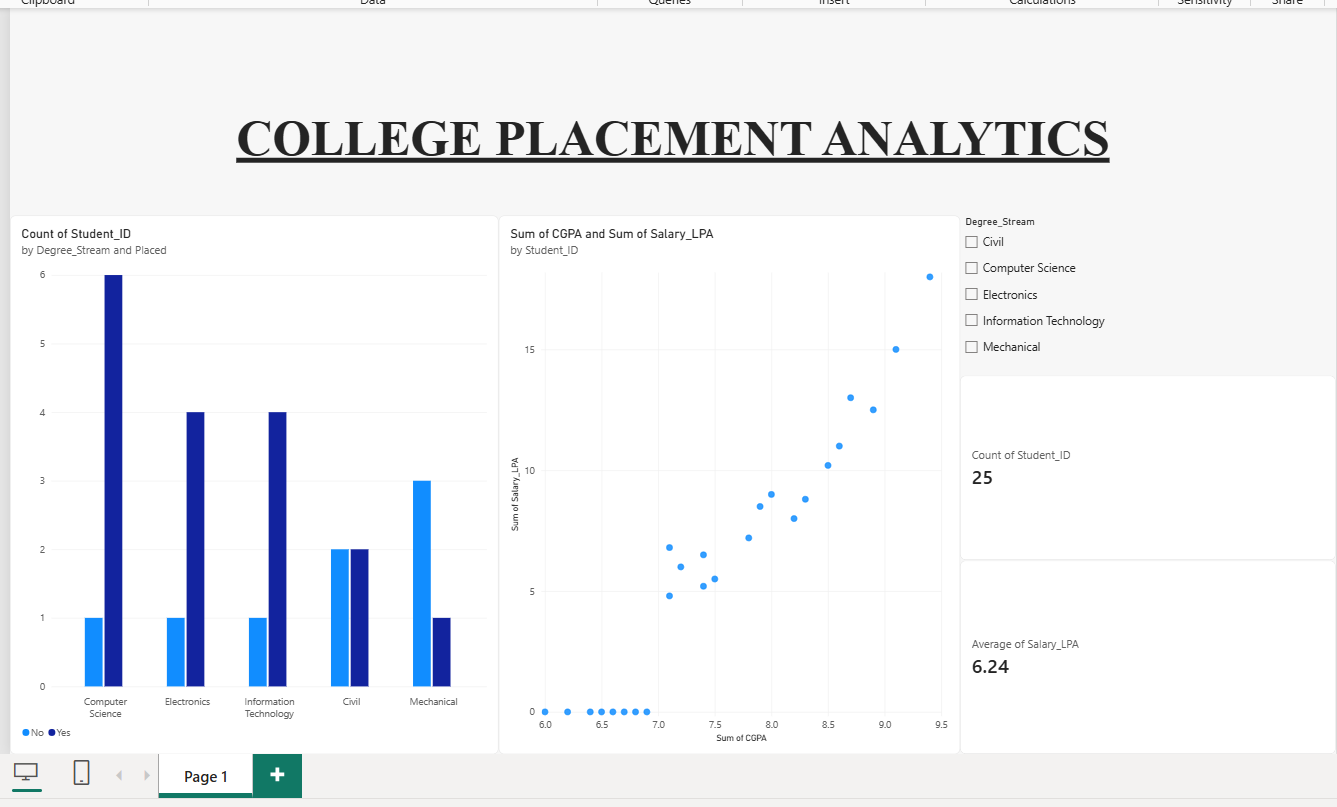

Layout of this report page (visuals, bound fields, positions):
{"tool":"powerbi","page":{"name":"Page 1","canvas":[1920,1080],"ordinal":0},"visuals":[{"type":"clusteredColumnChart","fields":{"Category":["Student_ID (Sheet1).Degree_Stream"],"Series":["Student_ID (Sheet1).Placed"],"Y":["CountNonNull(Student_ID (Sheet1).Student_ID)"]},"box":[0,300.4,707.6,780],"z":0},{"type":"scatterChart","fields":{"Category":["Student_ID (Sheet1).Student_ID"],"X":["Sum(Student_ID (Sheet1).CGPA)"],"Y":["Sum(Student_ID (Sheet1).Salary_LPA)"]},"box":[707.6,300.4,667.8,780],"z":1000},{"type":"textbox","box":[0,0,572,432],"z":2000},{"type":"textbox","box":[0,432.5,571.9,441.6],"z":3000},{"type":"textbox","box":[327.3,0,1558.2,432.2],"z":4000},{"type":"cardVisual","fields":{"Data":["CountNonNull(Student_ID (Sheet1).Student_ID)"]},"box":[1375.3,532,544.7,267.8],"z":5000},{"type":"cardVisual","fields":{"Data":["Avg(Student_ID (Sheet1).Salary_LPA)"]},"box":[1375.3,799.9,544.7,280.5],"z":6000},{"type":"slicer","fields":{"Values":["Student_ID (Sheet1).Degree_Stream"]},"box":[1375.3,300.4,544.7,231.6],"z":7000}]}

Visuals, with their boxes on the page's 1920x1080 design canvas (x1, y1, x2, y2). These are canvas units, not pixel positions in the 1337x807 screenshot, which may show the page scaled, cropped or inside an application window:
clusteredColumnChart - Student_ID (Sheet1).Degree_Stream x Student_ID (Sheet1).Placed: {"x1": 0, "y1": 300, "x2": 708, "y2": 1080}
scatterChart - Student_ID (Sheet1).Student_ID x Sum(Student_ID (Sheet1).CGPA): {"x1": 708, "y1": 300, "x2": 1375, "y2": 1080}
textbox: {"x1": 0, "y1": 0, "x2": 572, "y2": 432}
textbox: {"x1": 0, "y1": 432, "x2": 572, "y2": 874}
textbox: {"x1": 327, "y1": 0, "x2": 1886, "y2": 432}
cardVisual - CountNonNull(Student_ID (Sheet1).Student_ID): {"x1": 1375, "y1": 532, "x2": 1920, "y2": 800}
cardVisual - Avg(Student_ID (Sheet1).Salary_LPA): {"x1": 1375, "y1": 800, "x2": 1920, "y2": 1080}
slicer - Student_ID (Sheet1).Degree_Stream: {"x1": 1375, "y1": 300, "x2": 1920, "y2": 532}
